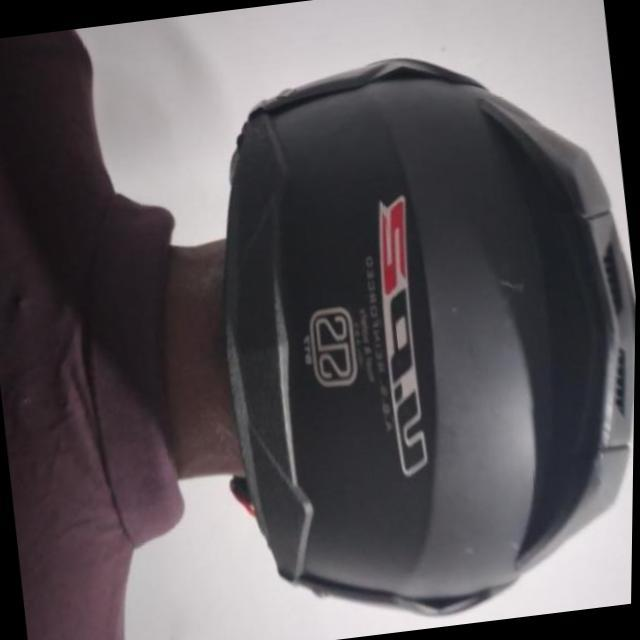with_helmet: (217, 44, 634, 615)
